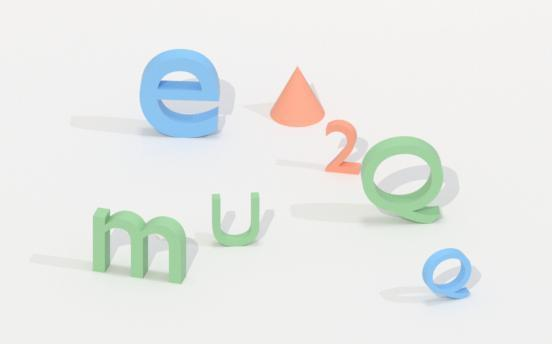chu_khoi: (361, 136, 443, 223), (140, 49, 219, 137), (93, 208, 186, 282), (212, 192, 259, 245), (422, 248, 471, 298)
non: (270, 67, 325, 127)
so_khoi: (326, 120, 360, 173)
